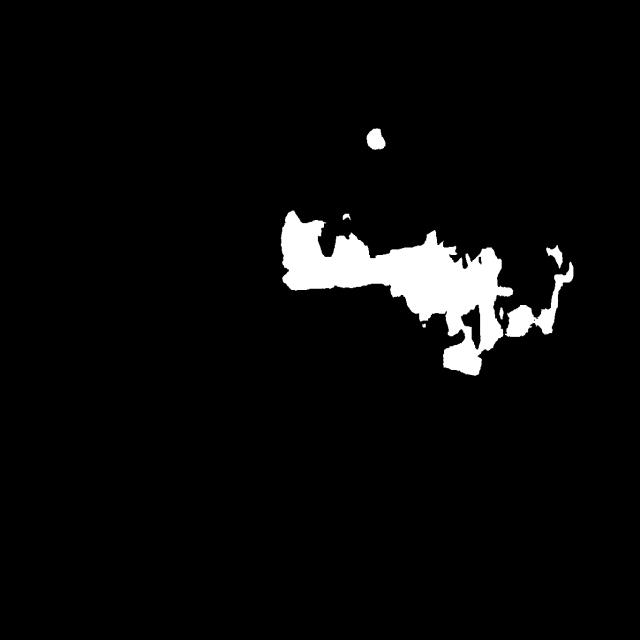fire: (252, 152, 619, 432)
